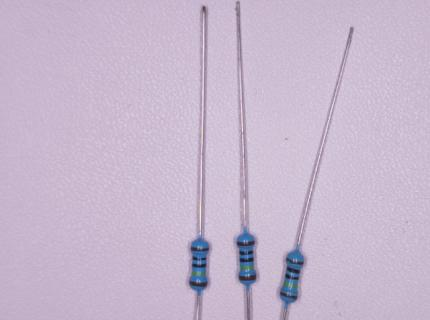Black band: (286, 266, 301, 275), (285, 273, 299, 281), (239, 257, 254, 264), (239, 250, 254, 256), (192, 263, 207, 268), (192, 256, 206, 261)
Brown band: (278, 290, 298, 301), (285, 257, 304, 266), (188, 280, 209, 288), (239, 274, 256, 281), (237, 240, 256, 246), (190, 247, 210, 252)
Yellow band: (283, 280, 298, 289), (192, 271, 206, 276), (240, 265, 254, 270)
